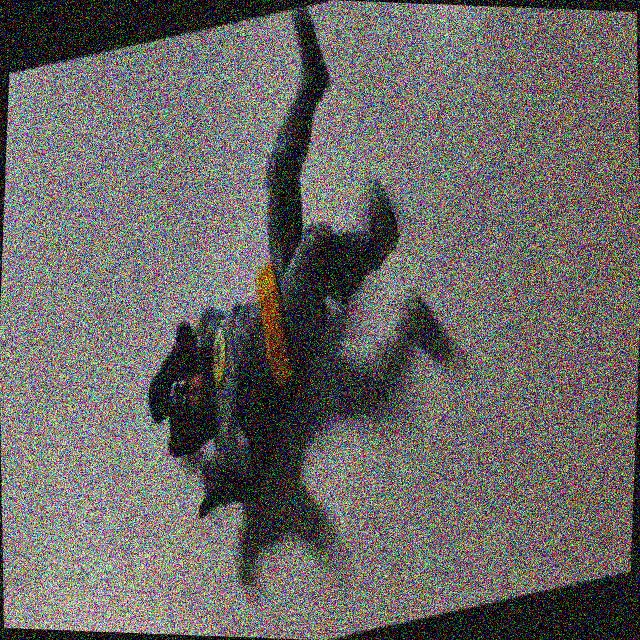Batman: (115, 0, 421, 585)
